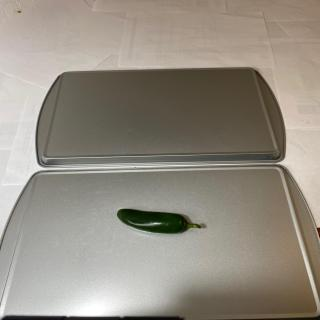Tomato: (117, 208, 201, 234)
